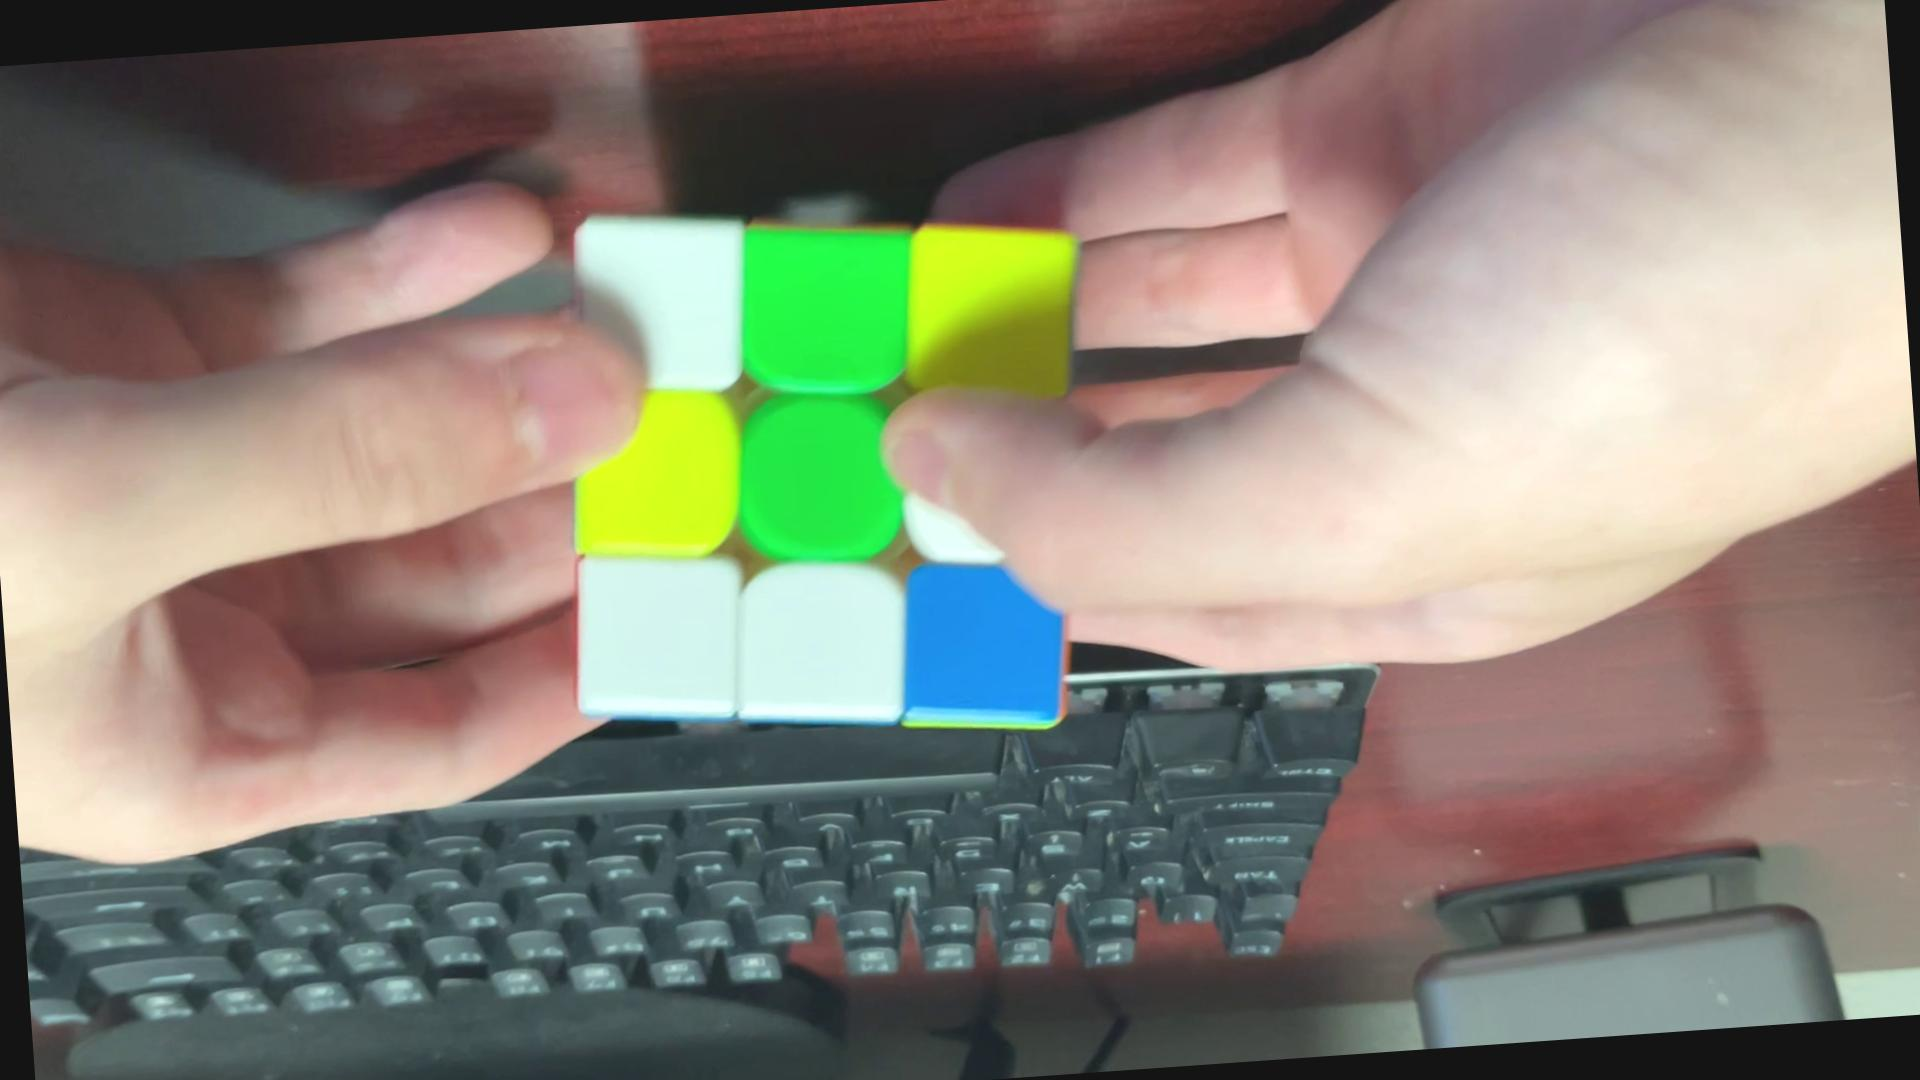Rubiks-Cube: (542, 160, 1120, 773)
